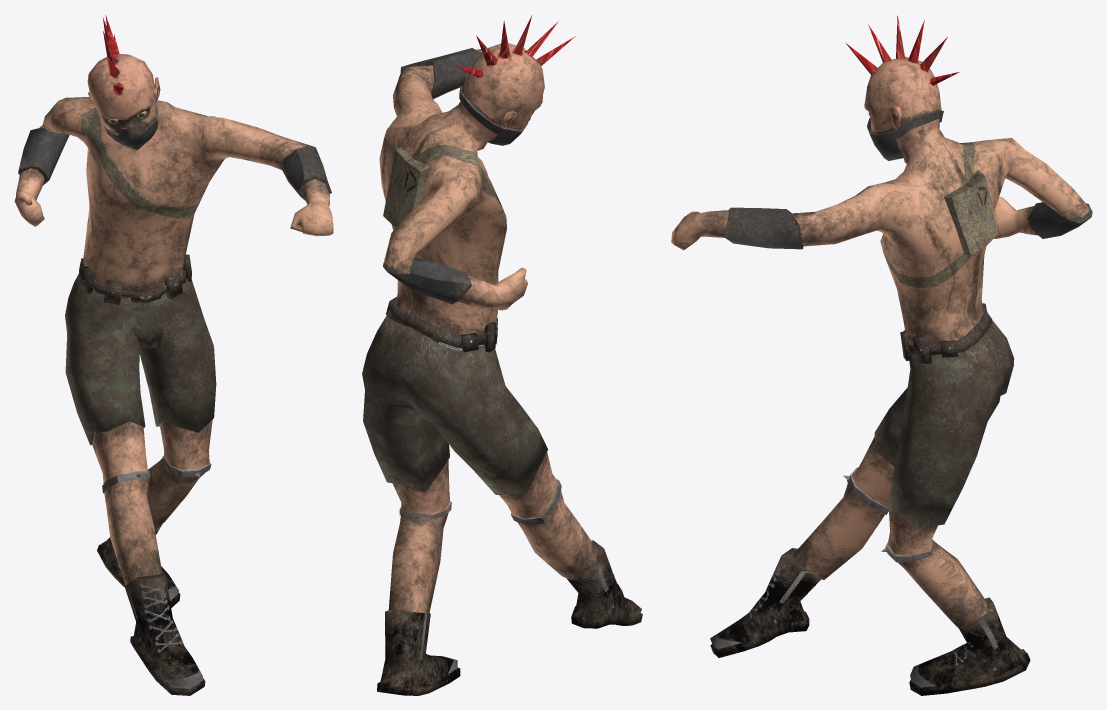
File: Anim_ataque_d3_npc2.0028.obj
3 renders of one model, left to right at view 1: azimuth 30°, elevation 25°; view 2: azimuth 150°, elevation 25°; view 3: azimuth 270°, elevation 25°, orthographic. The views are drawn at different scales.
Parts seen in each view (by area): view 1: polySurface1; view 2: polySurface1; view 3: polySurface1.
Boxes of the visible parts, left/top/right/bottom form: polySurface1: left=14, top=15, right=333, bottom=695; polySurface1: left=362, top=15, right=642, bottom=695; polySurface1: left=671, top=15, right=1092, bottom=695.
Size of the model in its own units: 3.38 by 9.55 by 5.7.
Materials: 2 (2 with a texture image).
